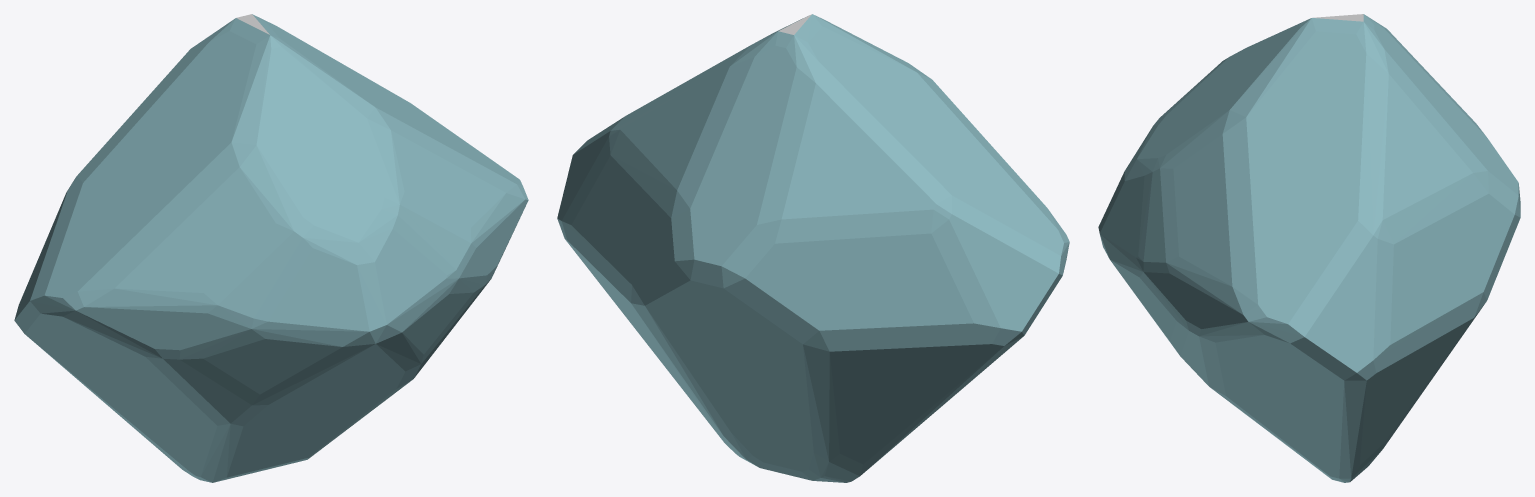
The model's file is rough-diamond-fecf28.glb.
The picture shows the model from 3 angles, left to right: view 1: azimuth 30°, elevation 25°; view 2: azimuth 150°, elevation 25°; view 3: azimuth 270°, elevation 25°; orthographic projection.
Parts seen in each view (by area): view 1: diamond; view 2: diamond; view 3: diamond.
Part boxes in pixels (box(x1,y1,x2,y2)): diamond: box(14, 14, 528, 482); diamond: box(557, 14, 1069, 482); diamond: box(1098, 14, 1520, 482).
Bounding box in the file's own units: 0.0885 × 0.0769 × 0.0671.
